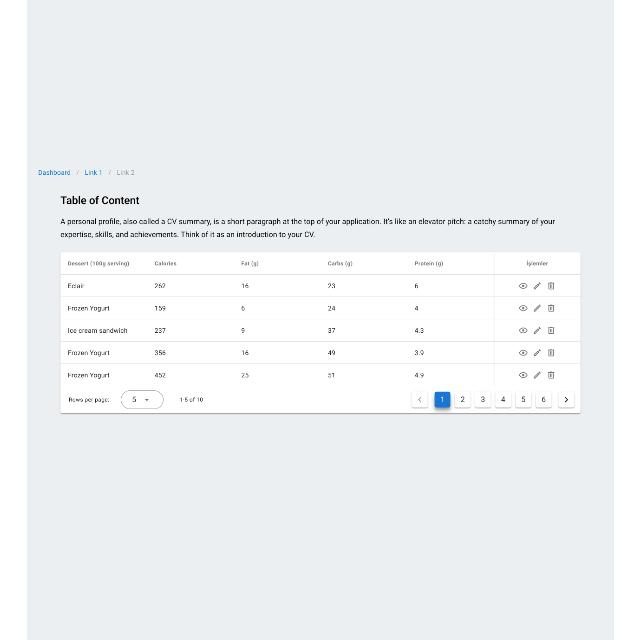QLabel: (55, 213, 557, 240), (60, 196, 140, 207)
VBreadcrumbs: (36, 168, 136, 178)
VDataTable: (59, 252, 582, 414)
